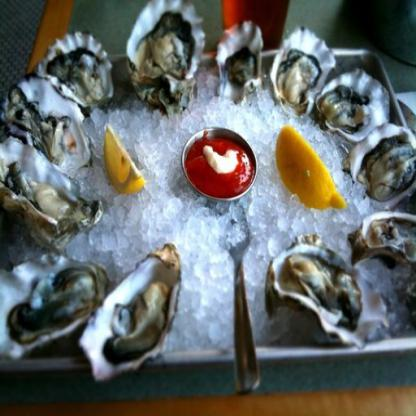oyster: (264, 231, 395, 350), (82, 243, 179, 379), (0, 139, 95, 246), (2, 75, 96, 173), (126, 0, 197, 107), (269, 27, 334, 115), (350, 122, 416, 206), (322, 70, 381, 142)
